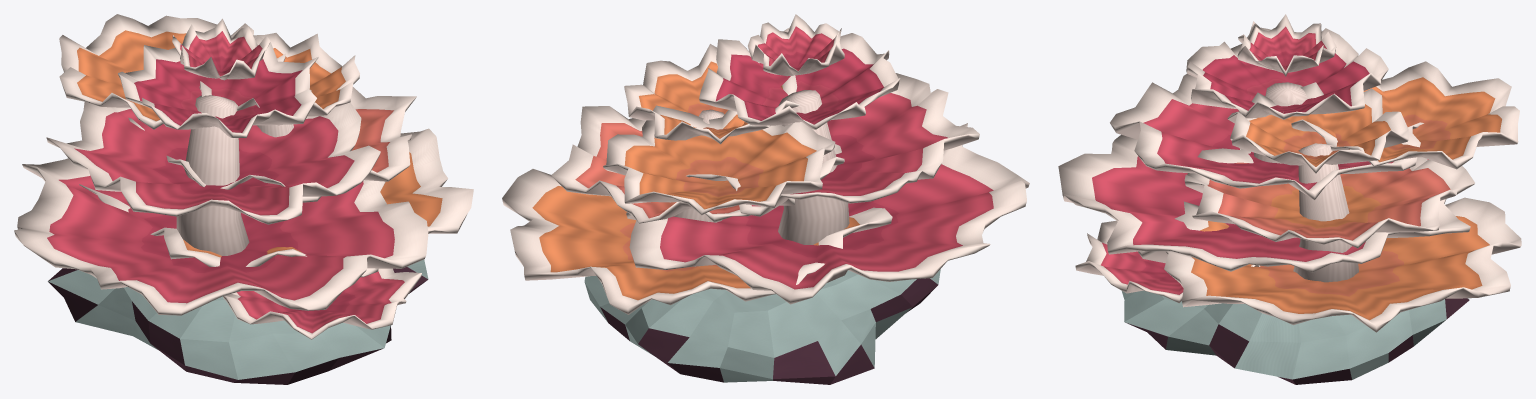
Rendered from table_coral.glb.
3 renders of one model, left to right at view 1: azimuth 30°, elevation 25°; view 2: azimuth 150°, elevation 25°; view 3: azimuth 270°, elevation 25°, orthographic. The views are drawn at different scales.
Visible parts, largest first — view 1: table_coral; view 2: table_coral; view 3: table_coral.
Boxes of the visible parts, bbox=[...] form: table_coral: bbox=[14, 14, 473, 384]; table_coral: bbox=[502, 14, 1029, 384]; table_coral: bbox=[1058, 14, 1521, 384].
Size of the model in its own units: 2.84 by 1.74 by 2.72.
1 material, 1 textured.
